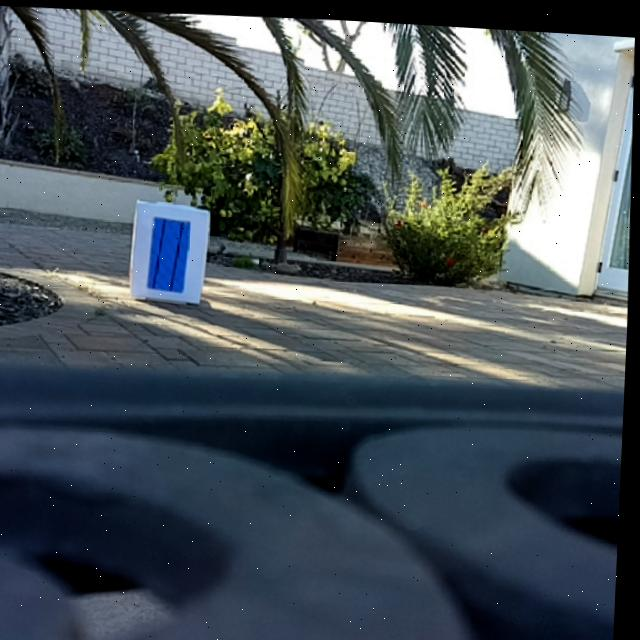led: (147, 211, 197, 294)
